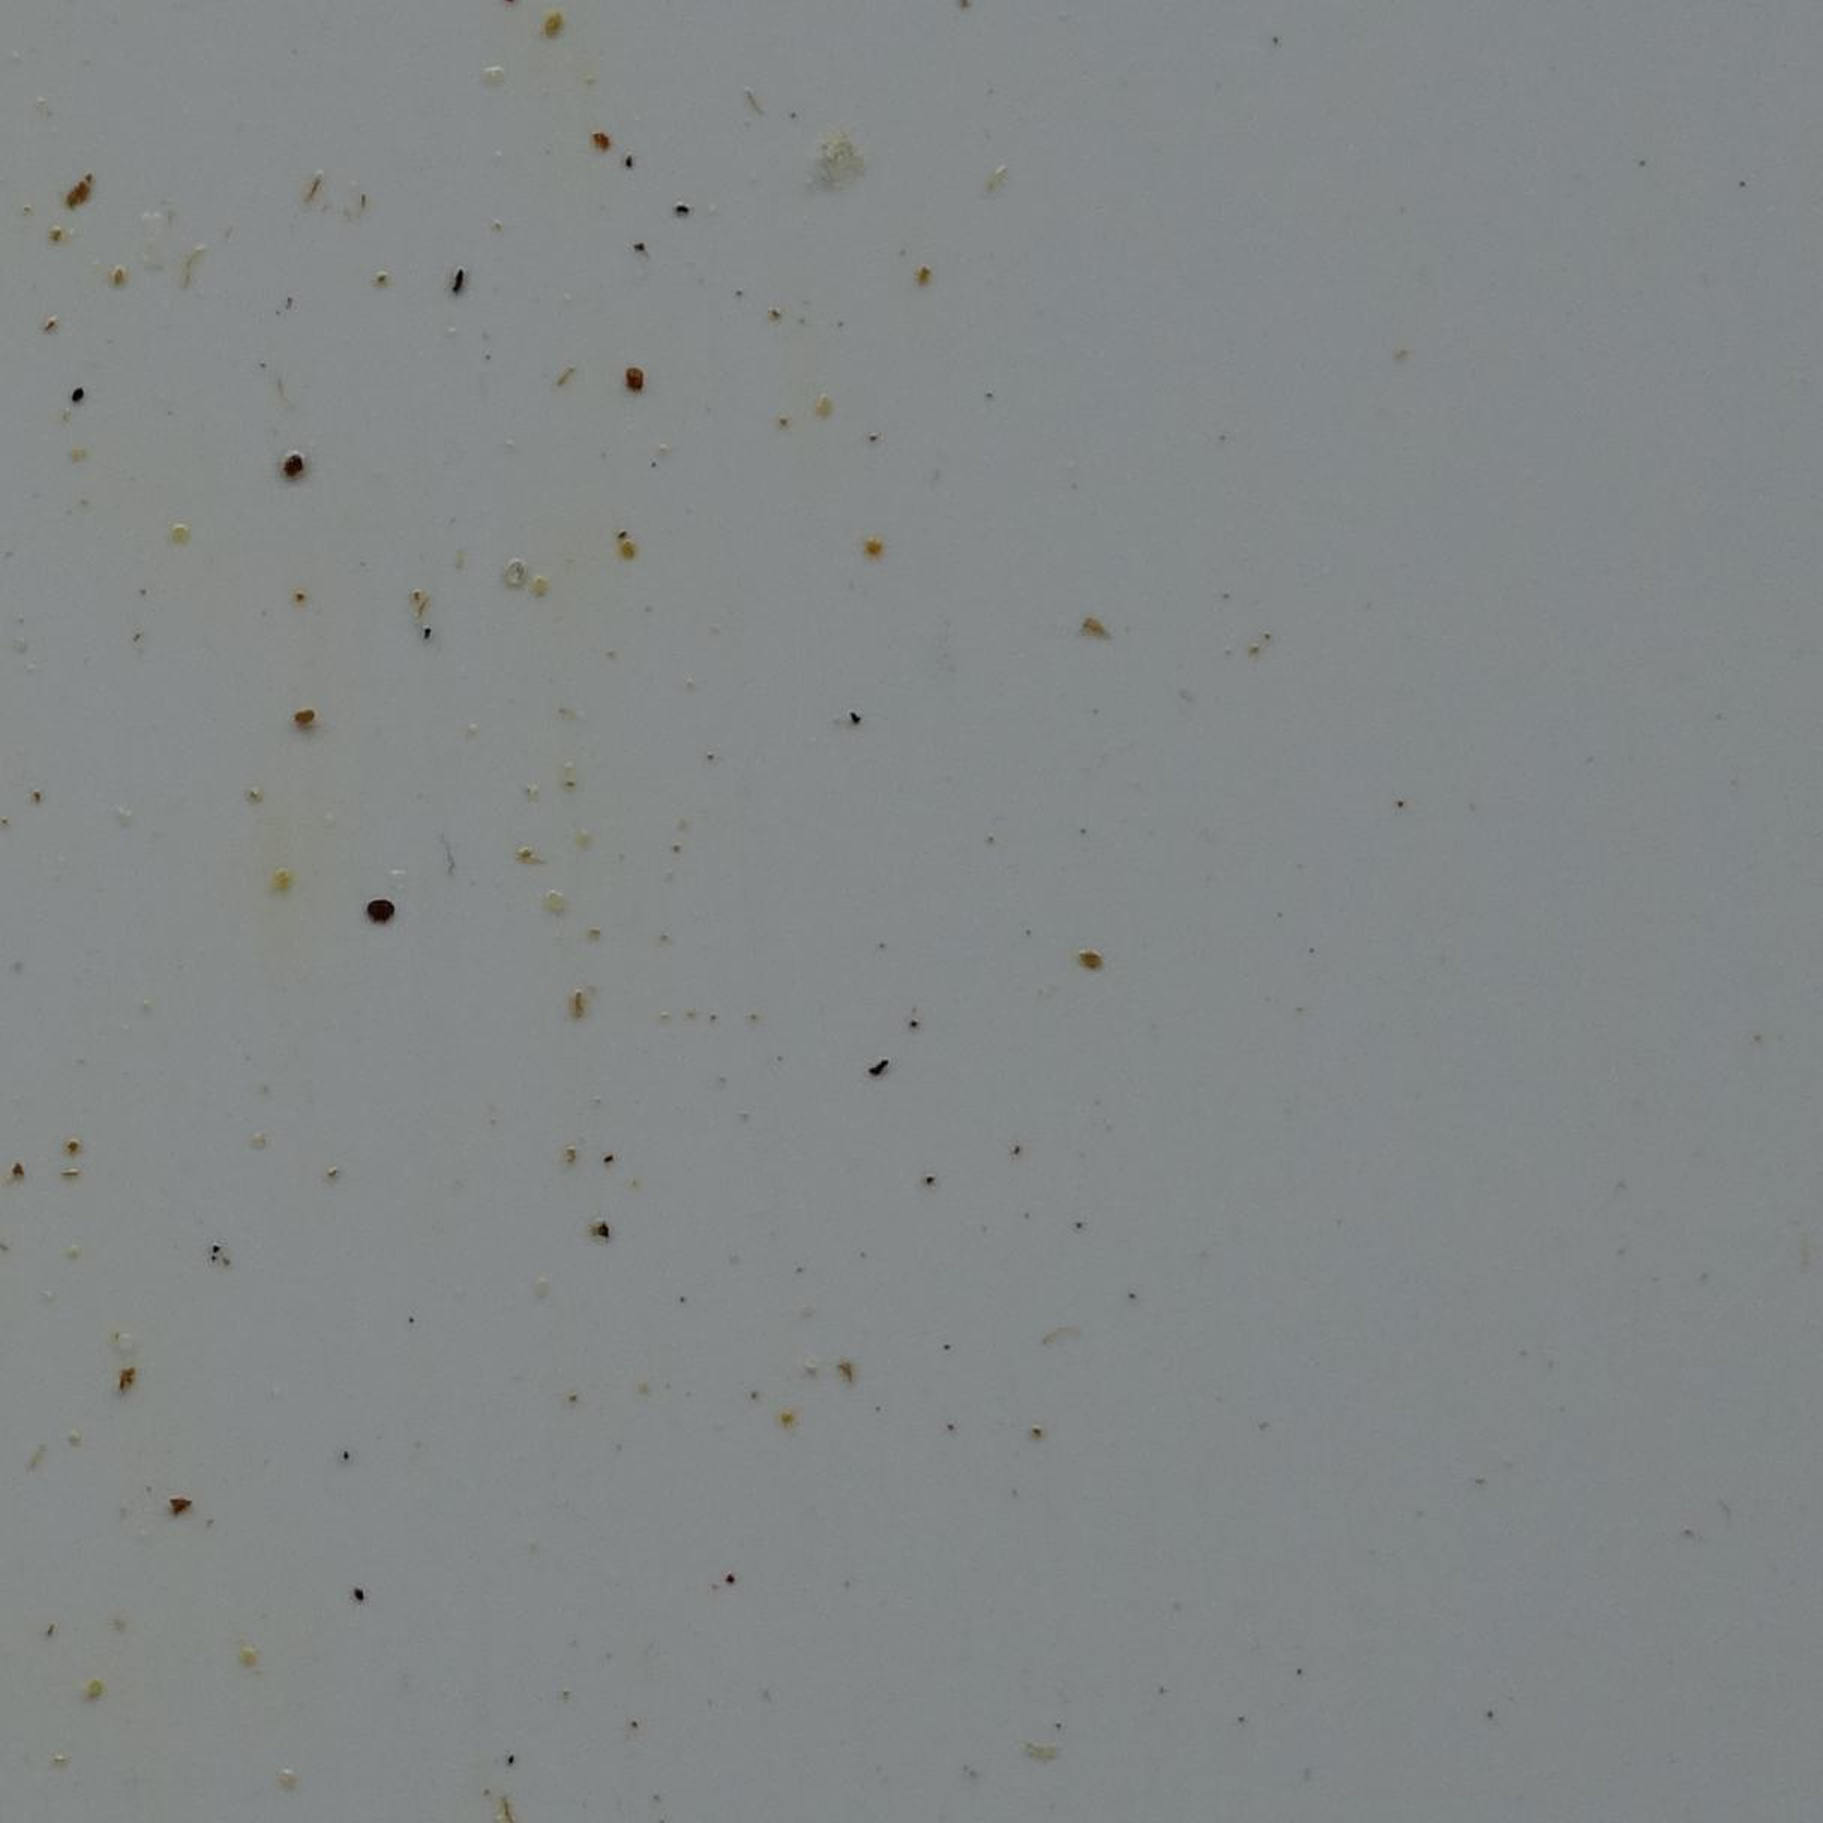Varroa: (372, 895, 401, 920)
